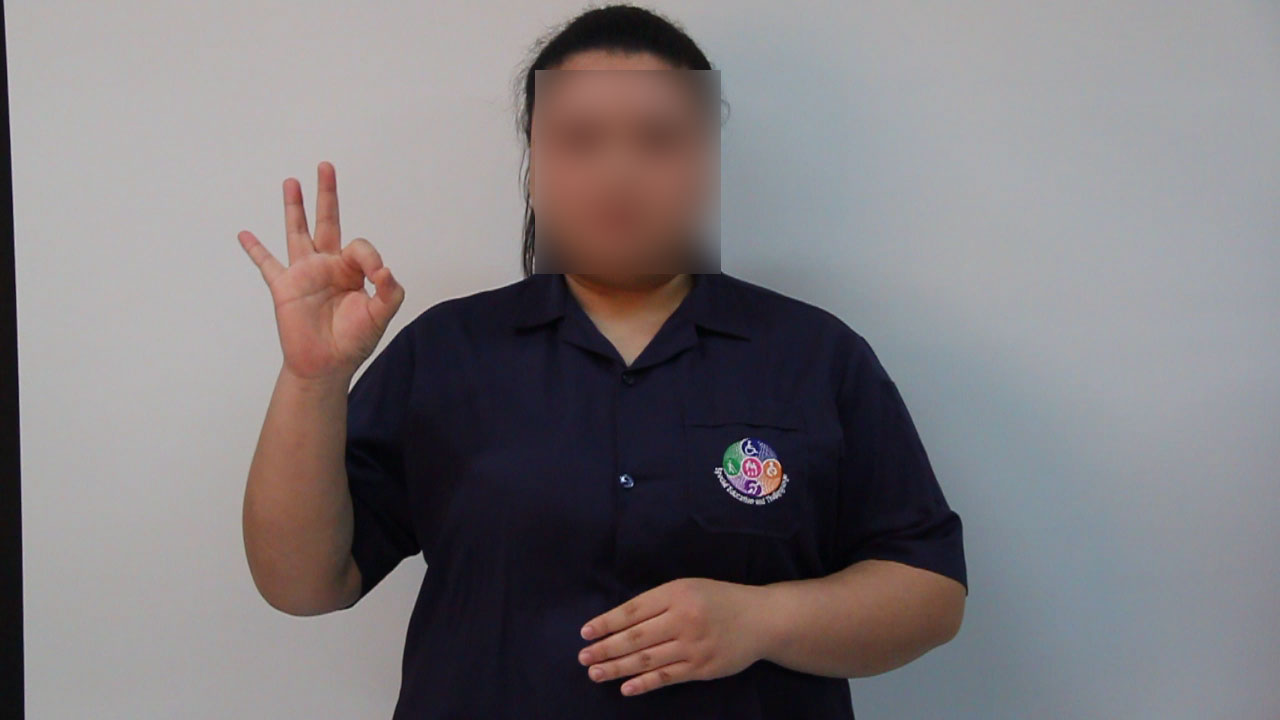for: (233, 155, 412, 394)
